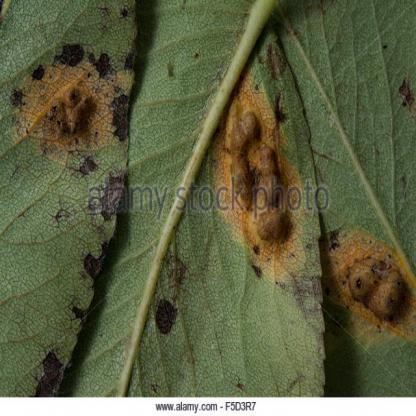Apple rust leaf: (26, 26, 410, 375)
